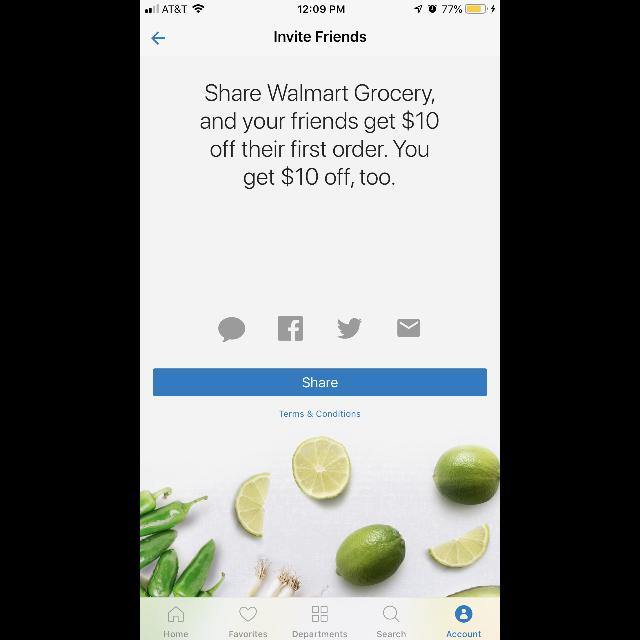icon: (278, 316, 304, 342), (218, 318, 246, 342), (338, 317, 362, 338), (398, 319, 420, 337), (382, 606, 400, 622), (456, 606, 472, 622), (312, 606, 328, 622), (240, 606, 256, 622), (168, 606, 184, 622), (152, 32, 166, 46)
image: (142, 437, 500, 598)
text: (200, 84, 440, 190), (275, 30, 367, 42), (280, 410, 360, 418), (293, 631, 347, 639), (229, 631, 267, 637), (446, 631, 482, 637), (377, 631, 405, 637), (164, 631, 188, 637)
textbutton: (154, 368, 486, 396)
uppertaskbar: (140, 0, 500, 14)
